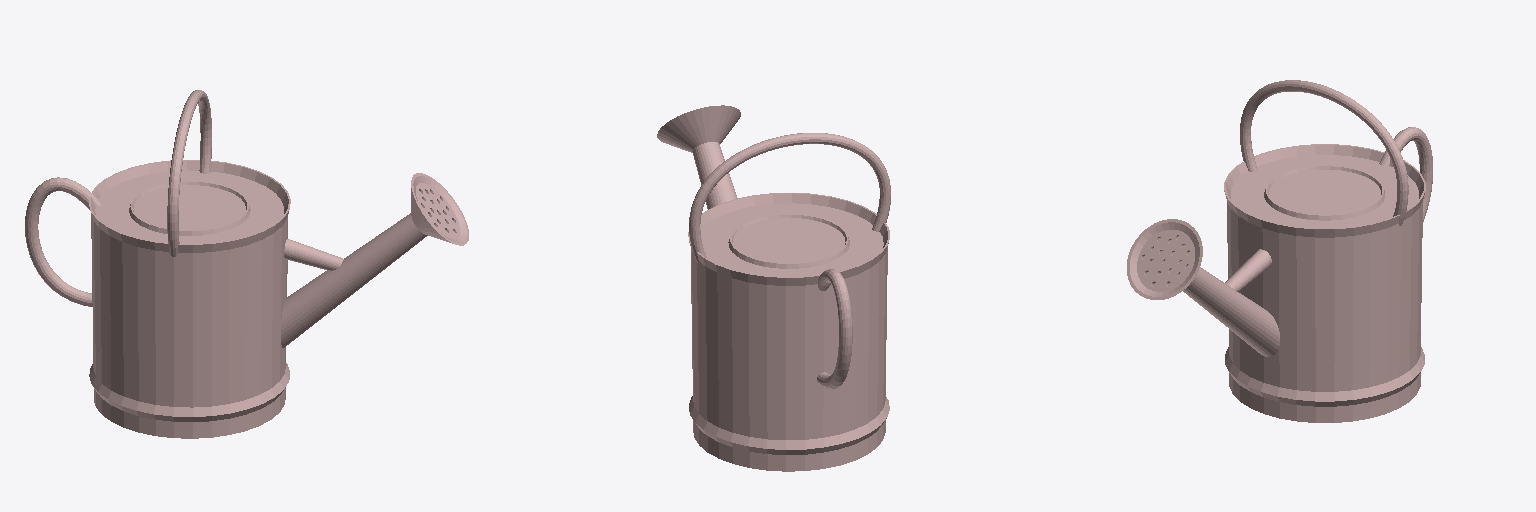
The model's file is wateringcan.obj.
3 views of the same model, side by side, from view 1: azimuth 30°, elevation 25°; view 2: azimuth 150°, elevation 25°; view 3: azimuth 270°, elevation 25° (orthographic).
Visible parts, largest first — view 1: MesheswateringCan1; view 2: MesheswateringCan1; view 3: MesheswateringCan1.
Part boxes in pixels (bbox=[...]): MesheswateringCan1: bbox=[25, 90, 468, 438]; MesheswateringCan1: bbox=[657, 105, 890, 471]; MesheswateringCan1: bbox=[1127, 80, 1432, 422].
Size of the model in its own units: 1.45 by 1.31 by 1.23.